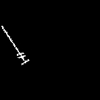treble_crochet: (2, 26, 28, 63)
